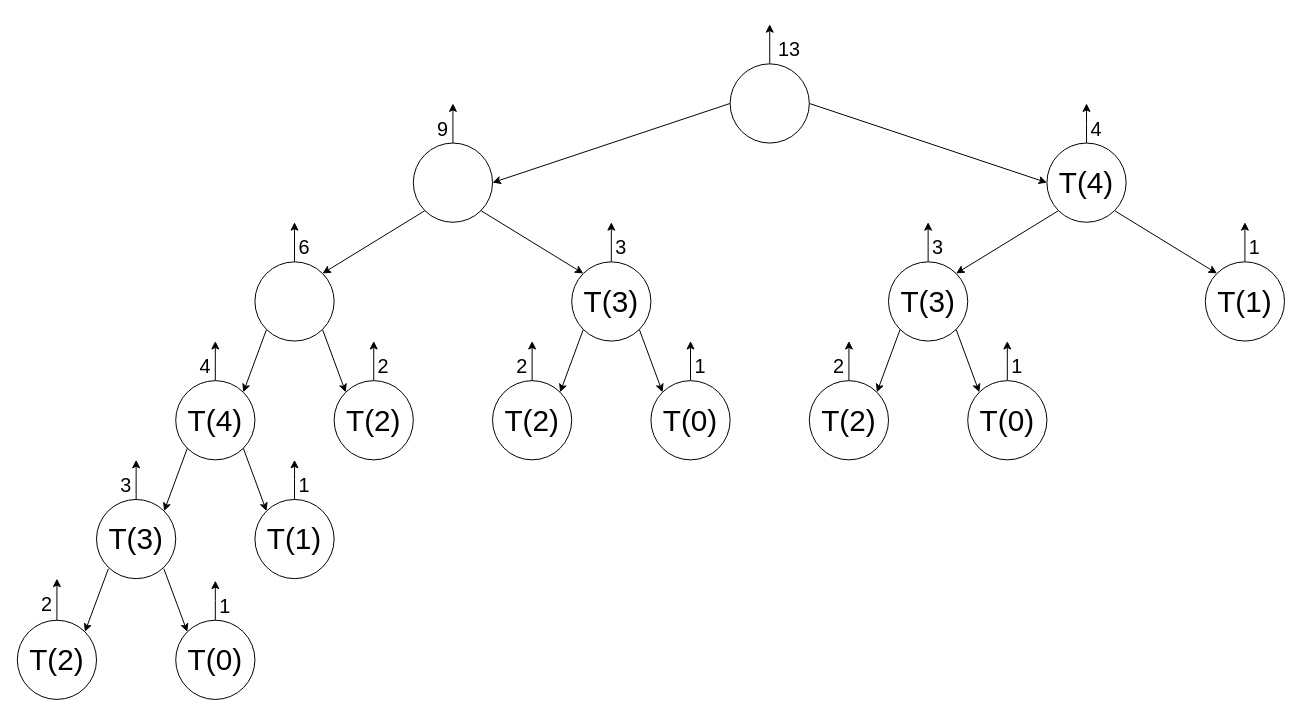
The diagram is 1302 pixels wide and 717 high, and some of its shapes have lost their labels. Here are the shapes that lost their labels. From the top down, the centre of each, then its label:
pixel 769 103: T(7)
pixel 452 182: T(6)
pixel 294 301: T(5)
